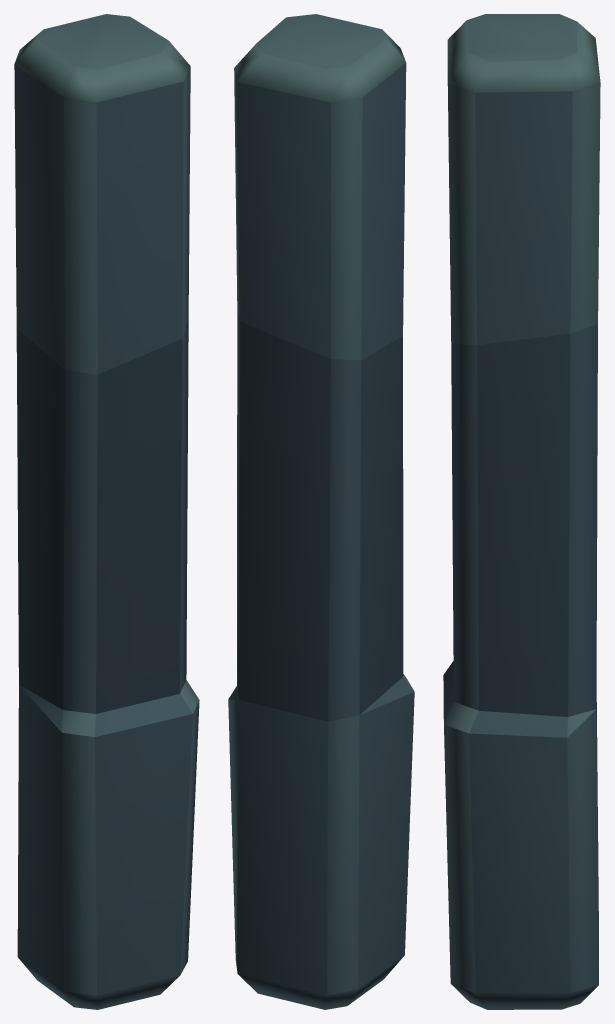
The model's file is archway_small_frame_part_large.fbx.
3 views of the same model, side by side, from view 1: azimuth 30°, elevation 25°; view 2: azimuth 150°, elevation 25°; view 3: azimuth 270°, elevation 25° (orthographic).
Parts seen in each view (by area): view 1: archway_small_frame_part_large; view 2: archway_small_frame_part_large; view 3: archway_small_frame_part_large.
Part boxes in pixels (<box>): archway_small_frame_part_large: <box>14,14,199,1009</box>; archway_small_frame_part_large: <box>228,14,414,1009</box>; archway_small_frame_part_large: <box>443,14,600,1009</box>.
Bounding box in the file's own units: 63.26 × 413 × 61.88.
